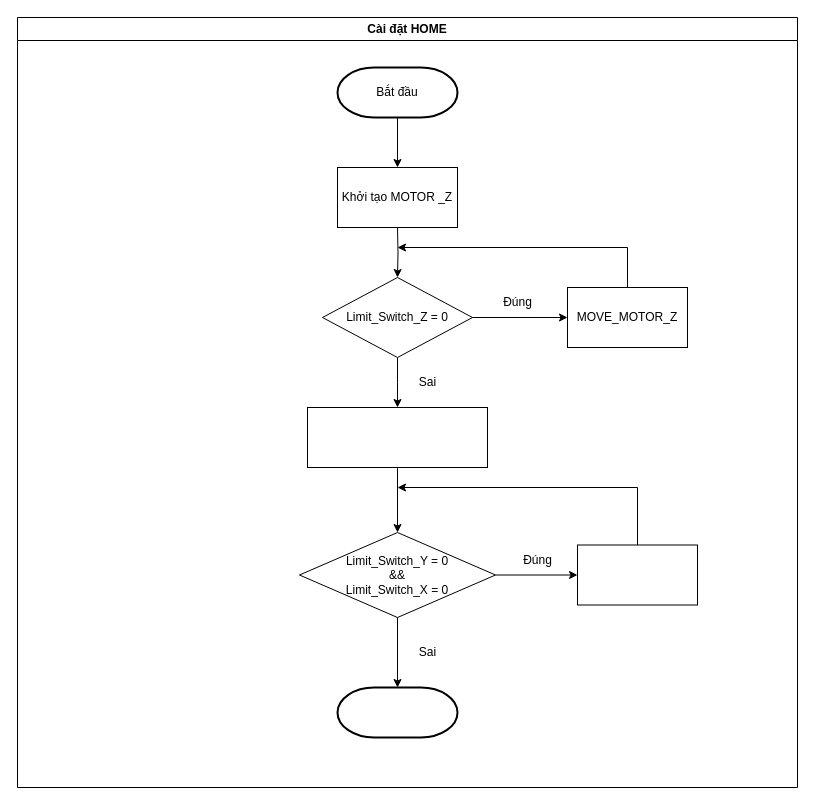
Image size: 815x805. Some labels were removed from this diagram. The box of each missing label's shape, as (x1, y1, x2, y2) in pixels:
Khởi tạo MOTOR_X & MOTOR_Y Is_X_Home = false Is_Y_Home = false: (306, 406, 488, 468)
Kết thúc: (336, 686, 458, 738)
MOVE_STEP_Y MOVE_STEP_X: (576, 544, 698, 605)
